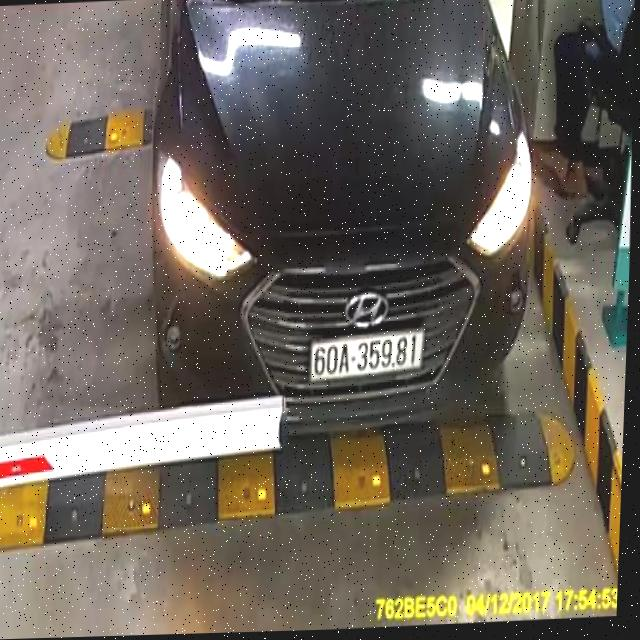car: (132, 0, 552, 436)
plate: (306, 329, 431, 381)
